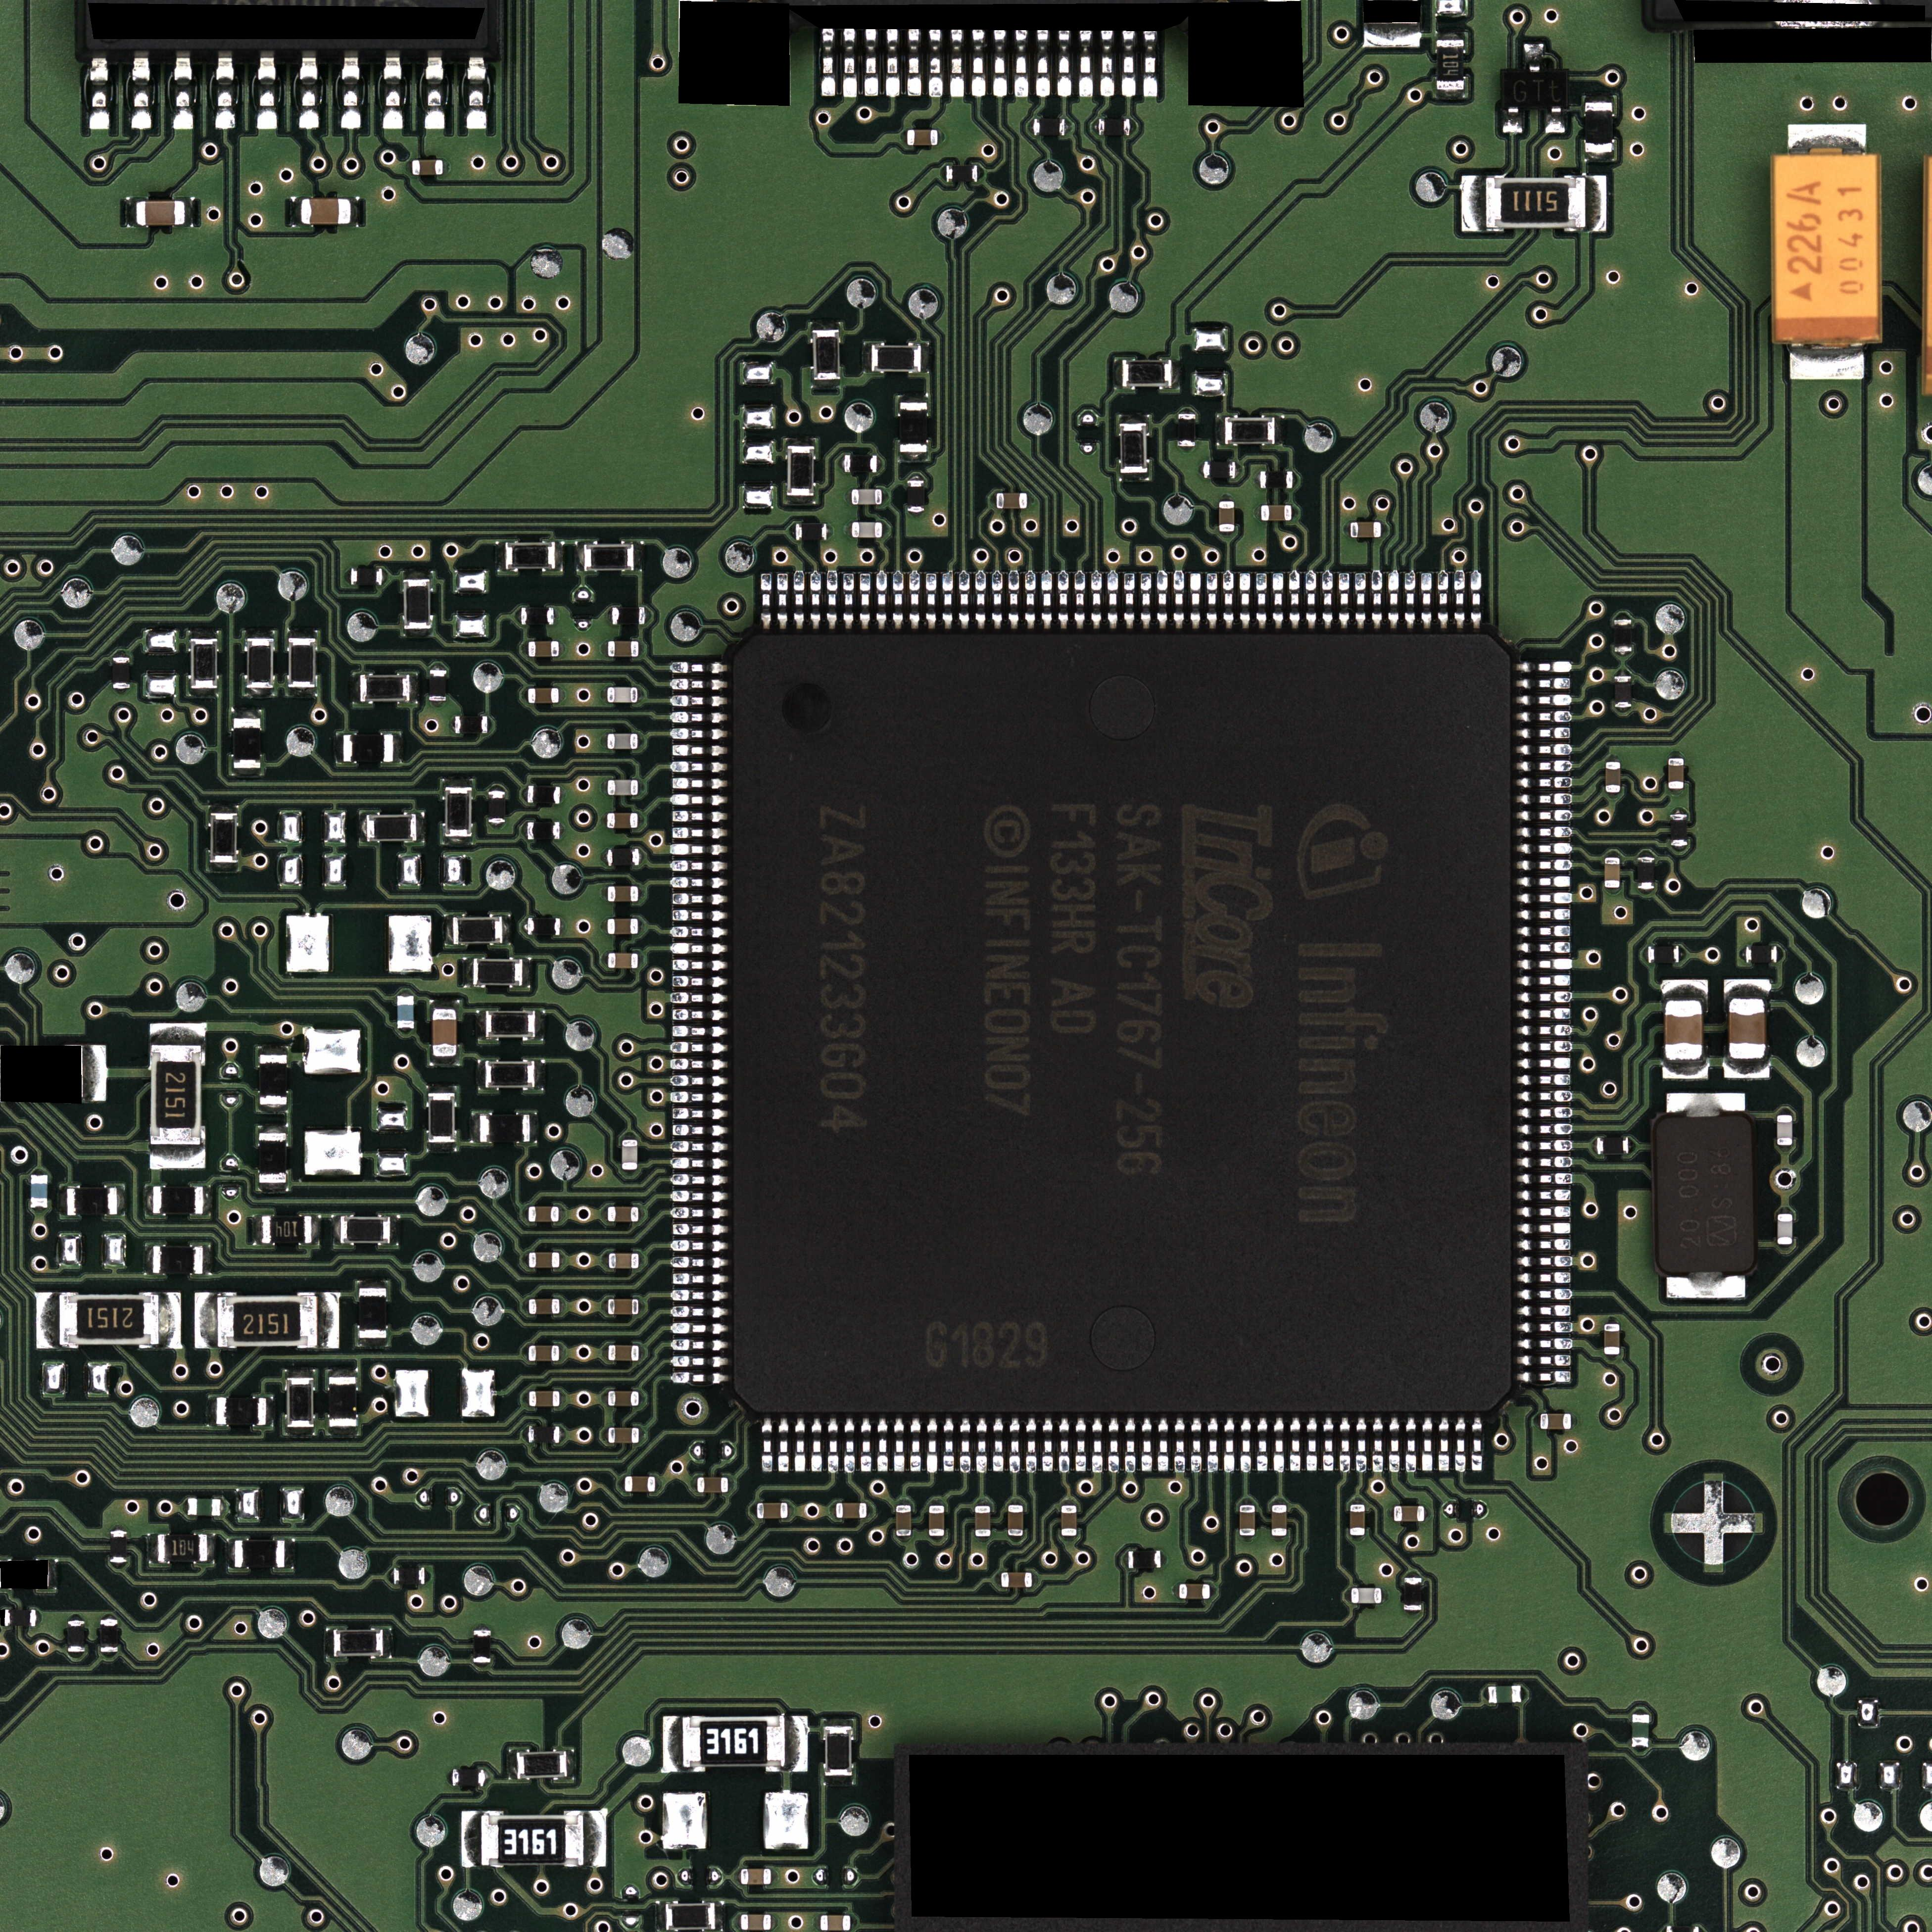Package: (729, 628, 1516, 1417), (1773, 156, 1881, 343), (1654, 1115, 1755, 1274), (481, 1813, 584, 1865), (683, 1716, 784, 1767), (150, 1046, 202, 1145), (218, 1295, 317, 1346), (1486, 177, 1585, 228), (60, 1293, 157, 1345), (1502, 71, 1568, 108), (1729, 998, 1766, 1058), (1665, 1000, 1702, 1060), (343, 734, 393, 763), (899, 402, 927, 451), (262, 1215, 311, 1244), (67, 1187, 117, 1215), (479, 1115, 529, 1143), (258, 1132, 287, 1182), (157, 1534, 207, 1562), (359, 1288, 387, 1338), (329, 1376, 357, 1426), (1585, 103, 1614, 152), (1437, 41, 1465, 90), (152, 1187, 203, 1214), (872, 345, 922, 372), (301, 198, 350, 225), (472, 959, 522, 985), (234, 718, 260, 768), (216, 1398, 265, 1424), (260, 1054, 287, 1104), (341, 1217, 391, 1244), (154, 1247, 203, 1274), (485, 1062, 534, 1088), (517, 1752, 566, 1778), (428, 1093, 455, 1143), (235, 1541, 285, 1568), (665, 1904, 715, 1930), (1122, 361, 1171, 387), (814, 329, 839, 380), (334, 1629, 382, 1656), (1226, 418, 1274, 444), (366, 816, 416, 840), (453, 918, 502, 943), (136, 200, 186, 225), (359, 676, 409, 701), (446, 787, 471, 837), (789, 446, 814, 495), (584, 545, 633, 570), (506, 543, 556, 568), (211, 812, 235, 862), (248, 639, 272, 688), (191, 639, 216, 688), (826, 1727, 851, 1776), (1122, 423, 1146, 472), (487, 1012, 536, 1037), (405, 580, 430, 628), (290, 639, 315, 686), (432, 1008, 456, 1056), (288, 1378, 311, 1428), (99, 1619, 119, 1652), (472, 1629, 492, 1663), (1614, 619, 1633, 653), (906, 479, 925, 511), (607, 847, 639, 867), (527, 821, 559, 840), (527, 916, 559, 936), (1403, 1578, 1422, 1610), (1129, 1550, 1161, 1569), (844, 455, 878, 472), (527, 786, 561, 803), (612, 607, 646, 625), (520, 607, 554, 625), (30, 1175, 48, 1208), (188, 1499, 221, 1516), (1260, 471, 1293, 488), (1596, 1138, 1629, 1155), (1488, 1686, 1522, 1704), (455, 717, 487, 734), (350, 568, 382, 586), (111, 656, 129, 688), (488, 791, 506, 823), (67, 1621, 85, 1652), (453, 1769, 485, 1787), (396, 996, 414, 1028), (393, 1568, 425, 1585), (110, 1530, 127, 1562), (1178, 414, 1196, 446), (1637, 858, 1654, 890), (1614, 676, 1631, 708), (1670, 814, 1688, 846), (947, 165, 978, 182), (1033, 119, 1065, 136), (1099, 119, 1131, 136), (1631, 1714, 1649, 1746), (1647, 945, 1679, 962), (529, 1426, 559, 1444), (1746, 945, 1776, 962), (996, 492, 1026, 510), (430, 669, 446, 701), (527, 688, 559, 704), (607, 886, 639, 902), (607, 640, 639, 656), (527, 640, 559, 656), (607, 918, 639, 934), (607, 1207, 639, 1223), (4, 1610, 35, 1626), (697, 1477, 729, 1493), (1668, 757, 1684, 789), (1219, 501, 1235, 533), (1203, 462, 1235, 478), (1605, 1323, 1621, 1355), (1350, 1504, 1366, 1536), (1178, 1583, 1210, 1599), (607, 734, 637, 750), (607, 812, 637, 828), (908, 129, 938, 145), (607, 780, 637, 796), (607, 686, 637, 702), (851, 488, 881, 504), (851, 522, 881, 538), (796, 524, 826, 540), (412, 159, 442, 175), (837, 1502, 867, 1518), (757, 1502, 787, 1518), (609, 1391, 639, 1407), (529, 1207, 559, 1223), (529, 1391, 559, 1407), (609, 1345, 639, 1361), (625, 1476, 655, 1491), (609, 1428, 639, 1444), (741, 1914, 771, 1930), (609, 1253, 639, 1269), (529, 1345, 559, 1361), (621, 1139, 637, 1169), (529, 1253, 559, 1269), (821, 1914, 851, 1930), (741, 1868, 771, 1884), (609, 1299, 639, 1315), (529, 1299, 559, 1315), (895, 1506, 911, 1536), (1605, 858, 1621, 888), (1261, 504, 1292, 520), (1605, 763, 1621, 793), (1350, 522, 1380, 538), (1541, 1414, 1571, 1430), (1352, 1587, 1382, 1603), (1001, 1571, 1031, 1587), (1776, 1115, 1792, 1145), (929, 1506, 945, 1536), (1394, 1506, 1424, 1522), (975, 1506, 991, 1536), (1062, 1506, 1077, 1536), (609, 954, 639, 968), (1778, 1214, 1792, 1244), (1272, 1506, 1286, 1536), (1240, 1506, 1254, 1536), (1008, 1506, 1023, 1536)
Solder: (1789, 345, 1863, 379), (1789, 124, 1867, 152), (1667, 1274, 1744, 1299), (465, 55, 487, 129), (131, 57, 152, 129), (88, 57, 110, 129), (1667, 1092, 1744, 1111), (425, 57, 444, 129), (384, 57, 403, 129), (299, 57, 318, 129), (257, 57, 276, 129), (216, 57, 235, 129), (173, 57, 193, 129), (341, 57, 361, 127), (150, 1145, 205, 1169), (1362, 25, 1421, 48), (195, 1293, 218, 1350), (1461, 175, 1484, 232), (85, 1044, 108, 1100), (786, 1716, 809, 1771), (159, 1292, 180, 1348), (150, 1023, 205, 1044), (37, 1293, 58, 1348), (318, 1292, 338, 1348), (462, 1812, 481, 1868), (1587, 175, 1606, 232), (586, 1812, 605, 1867), (1143, 25, 1157, 97), (1122, 25, 1136, 97), (1100, 25, 1115, 97), (1079, 25, 1093, 97), (1058, 25, 1072, 97), (993, 25, 1007, 97), (971, 25, 985, 97), (950, 25, 964, 97), (929, 25, 943, 97), (886, 25, 901, 97), (863, 25, 878, 97), (821, 25, 835, 97), (663, 1716, 681, 1773), (1035, 27, 1049, 97), (908, 27, 922, 97), (842, 25, 856, 96), (1723, 978, 1771, 998), (1663, 1060, 1709, 1079), (1661, 980, 1707, 1000), (1016, 27, 1028, 97), (1155, 1417, 1169, 1476), (1723, 1060, 1769, 1077), (671, 727, 727, 741), (671, 793, 727, 807), (671, 1074, 727, 1088), (671, 1173, 727, 1187), (671, 1223, 727, 1237), (671, 1288, 727, 1302), (671, 1238, 727, 1253), (671, 1272, 727, 1286), (671, 1256, 727, 1270), (671, 1322, 727, 1336), (671, 1338, 727, 1352), (1516, 1304, 1573, 1318), (1516, 1320, 1573, 1334), (672, 743, 727, 757), (672, 892, 727, 906), (672, 975, 727, 989), (1516, 809, 1571, 823), (1516, 858, 1571, 872), (1516, 924, 1571, 938), (1516, 1007, 1571, 1021), (1516, 1369, 1571, 1384), (1516, 1353, 1571, 1368), (672, 1024, 725, 1039), (1470, 570, 1483, 630), (925, 1415, 938, 1476), (1090, 1415, 1102, 1476), (1108, 1415, 1120, 1476), (1189, 1415, 1201, 1476), (1207, 1415, 1219, 1476), (1256, 1415, 1269, 1476), (1272, 1415, 1284, 1476), (1389, 1415, 1401, 1476), (810, 571, 823, 630), (893, 571, 906, 630), (909, 571, 922, 630), (826, 571, 839, 630), (876, 571, 888, 630), (925, 571, 938, 630), (941, 571, 954, 630), (1106, 571, 1118, 630), (1173, 571, 1185, 630), (1123, 571, 1136, 630), (1090, 571, 1102, 630), (1155, 571, 1168, 630), (1074, 571, 1086, 630), (1272, 571, 1284, 630), (1139, 571, 1152, 630), (1189, 571, 1201, 630), (1288, 571, 1300, 630), (1223, 571, 1235, 630), (1421, 571, 1433, 630), (1322, 571, 1334, 630), (1024, 571, 1037, 630), (1008, 571, 1021, 630), (1040, 571, 1053, 630), (1387, 571, 1399, 630), (991, 571, 1003, 630), (1058, 571, 1070, 630), (975, 571, 987, 630), (1371, 571, 1384, 630), (959, 571, 971, 630), (1437, 571, 1449, 630), (777, 573, 789, 632), (761, 571, 773, 630), (794, 1417, 807, 1476), (810, 1417, 823, 1476), (826, 1417, 839, 1476), (844, 1417, 856, 1476), (860, 1417, 872, 1476), (876, 1417, 888, 1476), (893, 1417, 906, 1476), (909, 1417, 922, 1476), (943, 1417, 955, 1476), (959, 1417, 971, 1476), (975, 1417, 987, 1476), (993, 1417, 1005, 1476), (1008, 1417, 1021, 1476), (1058, 1417, 1070, 1476), (1074, 1417, 1086, 1476), (1123, 1417, 1136, 1476), (1139, 1417, 1152, 1476), (1173, 1417, 1185, 1476), (1040, 1417, 1053, 1476), (1223, 1417, 1235, 1476), (1238, 1417, 1251, 1476), (1306, 1417, 1318, 1476), (1371, 1415, 1384, 1474), (1470, 1415, 1483, 1474), (1422, 1415, 1435, 1474), (1405, 1415, 1417, 1474), (671, 678, 727, 690), (671, 695, 727, 708), (671, 761, 727, 773), (671, 711, 727, 724), (671, 662, 727, 674), (671, 777, 727, 789), (671, 826, 727, 839), (671, 844, 727, 856), (671, 860, 727, 872), (671, 876, 727, 888), (860, 573, 872, 630), (671, 925, 727, 938), (671, 943, 727, 955), (671, 1058, 727, 1070), (671, 1157, 727, 1169), (671, 1042, 727, 1054), (671, 1092, 727, 1104), (671, 1191, 727, 1203), (671, 1306, 727, 1318), (671, 1207, 727, 1219), (1207, 573, 1219, 630), (1256, 573, 1269, 630), (1238, 573, 1251, 630), (1338, 573, 1350, 630), (1516, 1288, 1573, 1300), (1516, 1338, 1573, 1350), (761, 1417, 773, 1474), (1024, 1417, 1037, 1474), (1322, 1417, 1334, 1474), (1454, 1417, 1467, 1474), (1438, 1417, 1451, 1474), (672, 810, 727, 823), (672, 909, 727, 922), (672, 1141, 727, 1154), (672, 1123, 727, 1136), (672, 1108, 727, 1120), (672, 1008, 727, 1021), (672, 993, 727, 1005), (672, 1371, 727, 1384), (672, 1355, 727, 1368), (1516, 793, 1571, 805), (1516, 777, 1571, 789), (1516, 826, 1571, 839), (1516, 761, 1571, 773), (1516, 842, 1571, 855), (1516, 727, 1571, 740), (1516, 743, 1571, 755), (1516, 711, 1571, 724), (1516, 876, 1571, 888), (1516, 892, 1571, 904), (1516, 908, 1571, 920), (1516, 694, 1571, 706), (1516, 941, 1571, 954), (1516, 678, 1571, 690), (1516, 660, 1571, 672), (1516, 1155, 1571, 1168), (1516, 1173, 1571, 1185), (1516, 1189, 1571, 1201), (1516, 1223, 1571, 1235), (1516, 1139, 1571, 1152), (1516, 1254, 1571, 1267), (1516, 1123, 1571, 1136), (1516, 1272, 1571, 1284), (1516, 1238, 1571, 1251), (1516, 1090, 1571, 1102), (1516, 1074, 1571, 1086), (1516, 1040, 1571, 1053), (1516, 991, 1571, 1003), (1516, 959, 1571, 971), (1516, 975, 1571, 987), (1516, 1056, 1571, 1069), (672, 959, 725, 971), (1518, 1024, 1571, 1037), (1454, 570, 1465, 630), (1290, 1415, 1300, 1476), (794, 571, 805, 630), (1306, 571, 1316, 630), (1405, 571, 1415, 630), (1355, 1415, 1366, 1474), (844, 573, 855, 630), (1355, 573, 1366, 630), (778, 1417, 789, 1474), (1339, 1417, 1350, 1474), (1523, 42, 1543, 73), (1516, 1207, 1571, 1217), (1516, 1108, 1571, 1118), (1545, 108, 1566, 133), (1502, 108, 1523, 133), (147, 1532, 157, 1564), (823, 1776, 855, 1787), (715, 1902, 725, 1932), (50, 1559, 60, 1589), (354, 1338, 389, 1346), (428, 1058, 462, 1067), (207, 1394, 216, 1428), (1433, 90, 1467, 99), (352, 672, 361, 704), (334, 732, 343, 764), (188, 630, 219, 639), (287, 630, 318, 639), (244, 630, 276, 639), (257, 1046, 288, 1054), (426, 1085, 458, 1093), (143, 1244, 152, 1276), (327, 1428, 359, 1437), (471, 1111, 479, 1143), (257, 1184, 288, 1192), (810, 320, 842, 329), (476, 1060, 485, 1092), (508, 1748, 517, 1780), (1118, 472, 1150, 481), (1215, 414, 1224, 446), (1118, 414, 1150, 423), (1583, 152, 1615, 161), (1435, 30, 1467, 39), (444, 915, 453, 945), (209, 863, 239, 872), (232, 709, 262, 718), (232, 768, 262, 777), (287, 688, 317, 697), (464, 957, 472, 987), (476, 1010, 485, 1040), (327, 1368, 357, 1376), (430, 1000, 460, 1008), (311, 1215, 320, 1246), (426, 1143, 456, 1152), (285, 1428, 315, 1437), (285, 1369, 315, 1378), (265, 1396, 274, 1426), (285, 1539, 294, 1569), (207, 1534, 216, 1564), (226, 1539, 235, 1569), (922, 343, 931, 373), (899, 393, 929, 402), (899, 453, 929, 462), (786, 437, 816, 446), (786, 495, 816, 504), (556, 541, 564, 571), (575, 541, 584, 571), (502, 915, 511, 945), (529, 1113, 538, 1143), (536, 1010, 545, 1040), (522, 957, 531, 987), (656, 1902, 665, 1932), (1171, 359, 1180, 389), (1113, 359, 1122, 389), (186, 198, 195, 226), (189, 688, 218, 697), (209, 805, 237, 814), (246, 688, 274, 697), (416, 814, 425, 842), (403, 628, 432, 637), (333, 1215, 341, 1244), (253, 1215, 262, 1244), (812, 380, 840, 389), (633, 541, 642, 570), (58, 1185, 65, 1219), (444, 837, 471, 846), (127, 196, 134, 228), (257, 1125, 288, 1132), (145, 1185, 152, 1217), (119, 1185, 126, 1217), (203, 1244, 211, 1276), (536, 1060, 543, 1092), (823, 1718, 855, 1725), (350, 196, 357, 226), (294, 196, 301, 226), (403, 571, 433, 579), (395, 732, 402, 763), (442, 778, 472, 786), (359, 812, 366, 842), (410, 672, 418, 702), (391, 1215, 398, 1246), (357, 1281, 387, 1288), (203, 1185, 211, 1215), (258, 1106, 288, 1113), (384, 1628, 391, 1658), (326, 1628, 333, 1658), (863, 343, 870, 373), (497, 541, 504, 571), (568, 1750, 575, 1780), (1583, 96, 1614, 103), (1276, 416, 1283, 444), (1628, 1138, 1637, 1155), (637, 686, 646, 702), (600, 640, 609, 656), (929, 1497, 945, 1506), (99, 1651, 119, 1658), (554, 607, 561, 626), (1177, 446, 1196, 453), (405, 159, 412, 177), (442, 157, 449, 175), (428, 701, 446, 708), (382, 568, 389, 586), (30, 1168, 48, 1175), (67, 1614, 85, 1621), (425, 1568, 432, 1585), (110, 1562, 127, 1569), (180, 1499, 188, 1516), (639, 732, 646, 750), (639, 778, 646, 796), (639, 812, 646, 830), (826, 522, 833, 540), (789, 522, 796, 540), (520, 823, 527, 840), (605, 607, 612, 625), (621, 1132, 639, 1139), (600, 1205, 607, 1223), (639, 1345, 646, 1362), (639, 1251, 646, 1269), (559, 1426, 566, 1444), (639, 1205, 646, 1223), (602, 1251, 609, 1269), (621, 1169, 639, 1177), (1178, 407, 1196, 414), (978, 165, 985, 182), (1131, 119, 1138, 136), (1235, 462, 1242, 479), (1065, 119, 1072, 136), (1240, 1497, 1254, 1506), (1403, 1610, 1421, 1617), (1614, 612, 1631, 619), (1614, 669, 1631, 676), (1776, 1246, 1794, 1253), (1776, 1146, 1794, 1154), (1631, 1707, 1649, 1714), (430, 663, 446, 671), (69, 1652, 85, 1660), (938, 129, 945, 145), (844, 488, 851, 504), (600, 686, 607, 702), (600, 886, 607, 902), (559, 823, 566, 839), (602, 952, 609, 968), (639, 952, 646, 968), (639, 886, 646, 902), (639, 918, 646, 934), (883, 522, 890, 538), (522, 640, 529, 656), (639, 849, 646, 865), (600, 849, 607, 865), (844, 522, 851, 538), (559, 787, 566, 803), (600, 918, 607, 934), (488, 784, 504, 791), (600, 812, 607, 828), (488, 823, 504, 830), (515, 609, 522, 625), (559, 640, 566, 656), (602, 1391, 609, 1407), (522, 1391, 529, 1407), (602, 1428, 609, 1444), (639, 1299, 646, 1315), (639, 1391, 646, 1407), (559, 1345, 566, 1361), (559, 1391, 566, 1407), (522, 1426, 529, 1442), (559, 1299, 566, 1315), (602, 1345, 609, 1361), (522, 1345, 529, 1361), (639, 1428, 646, 1444), (522, 1299, 529, 1315), (750, 1502, 757, 1518), (929, 1536, 945, 1543), (814, 1914, 821, 1930), (1092, 119, 1099, 134), (1382, 522, 1389, 538), (1345, 1587, 1352, 1603), (1405, 1571, 1421, 1578), (1008, 1536, 1024, 1543), (1161, 1552, 1168, 1568), (1387, 1506, 1394, 1522), (1062, 1499, 1077, 1506), (1173, 1583, 1180, 1599), (1122, 1552, 1129, 1568), (975, 1499, 991, 1506), (1605, 888, 1621, 895), (1679, 947, 1686, 962), (1776, 947, 1783, 962), (1605, 793, 1621, 800), (1605, 851, 1621, 858), (1605, 755, 1621, 763), (1672, 846, 1688, 853), (1638, 888, 1654, 895), (1739, 947, 1746, 962), (1776, 1108, 1792, 1115), (1776, 1207, 1792, 1214), (1522, 1686, 1529, 1702), (1633, 1746, 1649, 1753), (1614, 651, 1633, 656), (398, 989, 412, 996), (600, 734, 607, 748), (559, 688, 566, 702), (522, 688, 529, 702), (639, 642, 646, 656), (881, 490, 888, 504), (522, 1207, 529, 1221), (559, 1207, 566, 1221), (559, 1253, 566, 1267), (522, 1253, 529, 1267), (617, 1477, 625, 1491), (655, 1477, 662, 1491), (897, 1536, 911, 1543), (897, 1497, 911, 1504), (476, 1663, 490, 1670), (1026, 120, 1033, 134), (989, 494, 996, 508), (1292, 506, 1299, 520), (1254, 506, 1261, 520), (1350, 1497, 1364, 1504), (1031, 1573, 1039, 1587), (1272, 1499, 1286, 1506), (1008, 1499, 1023, 1506), (994, 1573, 1001, 1587), (111, 688, 129, 694), (345, 568, 350, 586), (30, 1208, 48, 1214), (396, 1028, 414, 1033), (908, 474, 925, 479), (839, 455, 844, 472), (939, 165, 945, 182), (646, 607, 651, 625), (522, 786, 527, 803), (908, 511, 925, 517), (561, 918, 566, 936), (1254, 471, 1260, 488), (1670, 809, 1688, 814), (1667, 789, 1684, 794), (1592, 1138, 1598, 1155), (1483, 1686, 1488, 1704), (113, 651, 129, 656), (449, 717, 455, 732), (37, 1610, 42, 1626), (101, 1614, 117, 1619), (474, 1624, 490, 1629), (387, 1569, 393, 1585), (219, 1500, 225, 1516), (0, 1610, 5, 1626), (901, 129, 906, 145), (878, 456, 883, 472), (522, 918, 527, 934), (602, 1299, 607, 1315), (485, 1769, 490, 1785), (867, 1502, 872, 1518), (830, 1502, 835, 1518), (771, 1868, 777, 1884), (851, 1914, 856, 1930), (771, 1914, 777, 1930), (736, 1914, 741, 1930), (1293, 472, 1299, 488), (1219, 495, 1235, 501), (1200, 462, 1205, 478), (1219, 533, 1235, 538), (1345, 522, 1350, 538), (975, 1537, 991, 1543), (1382, 1587, 1387, 1603), (1210, 1583, 1215, 1599), (1062, 1536, 1077, 1541), (1350, 1536, 1366, 1541), (1270, 1536, 1286, 1541), (1668, 752, 1684, 757), (1615, 708, 1631, 713), (1638, 851, 1654, 856), (1642, 947, 1647, 962), (111, 1525, 126, 1530), (602, 780, 607, 794), (692, 1477, 697, 1491), (787, 1504, 793, 1518), (1028, 494, 1033, 508), (1240, 1536, 1254, 1541), (1605, 1355, 1619, 1361), (1605, 1318, 1619, 1323), (1571, 1414, 1576, 1428), (736, 1870, 741, 1882), (1424, 1507, 1430, 1520), (1534, 1415, 1539, 1428), (448, 1769, 451, 1785), (488, 717, 492, 732), (729, 1477, 732, 1491)
